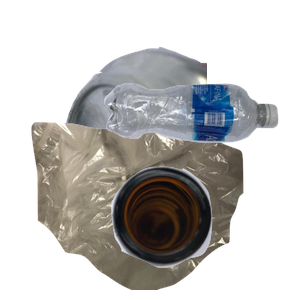glass: (109, 164, 300, 300)
metal: (60, 44, 300, 224)
plastic: (102, 81, 300, 216)
trash: (29, 120, 265, 300)
